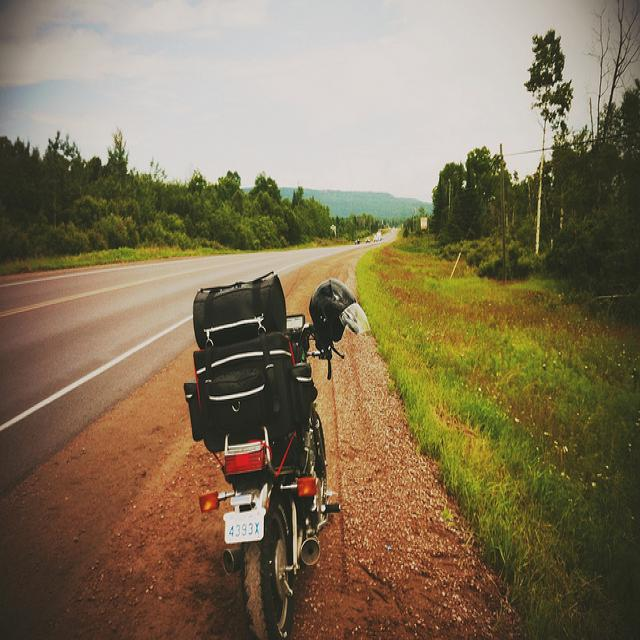motor: (199, 314, 345, 640)
